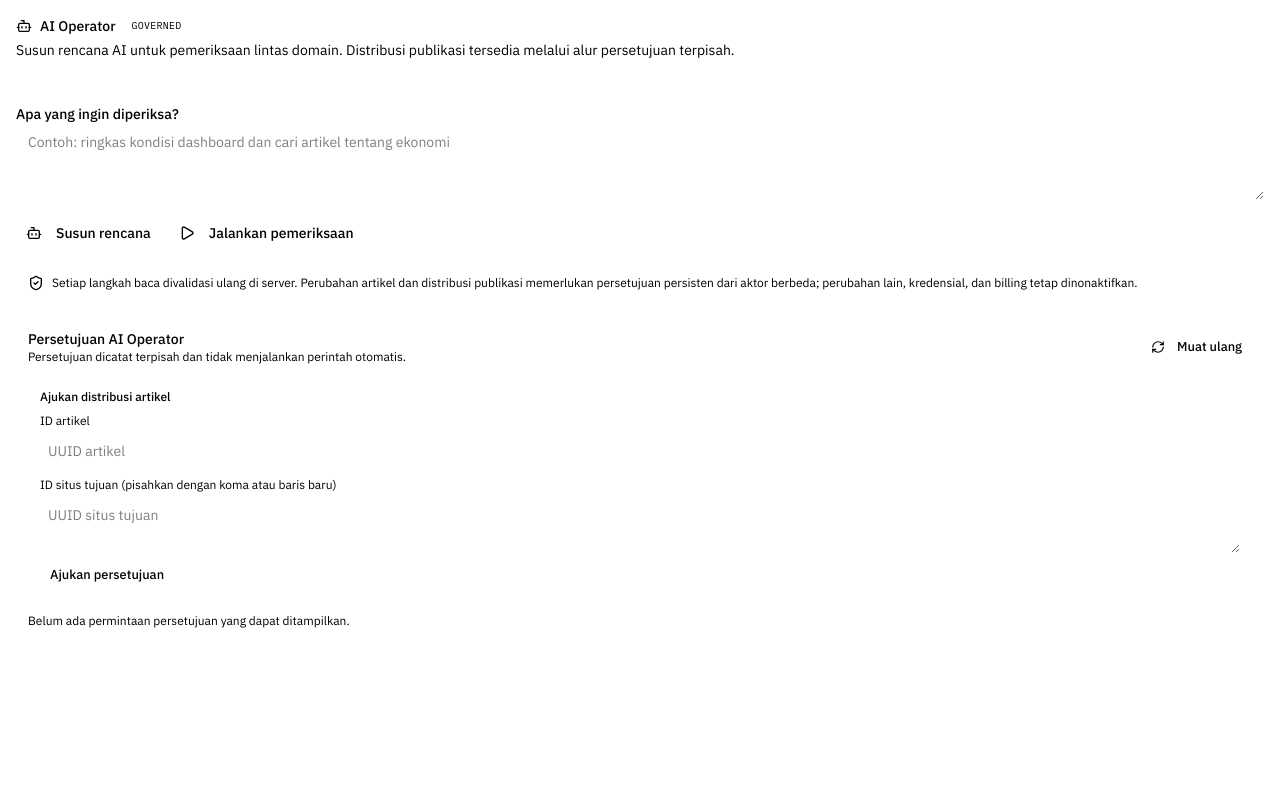
Test: AiOperatorConsole › submits a publication approval request using the entered article and site IDs
In the field with placeholder "UUID artikel": (640, 451) [40, 433, 1240, 469], type "11111111-1111-4111-8111-111111111111"
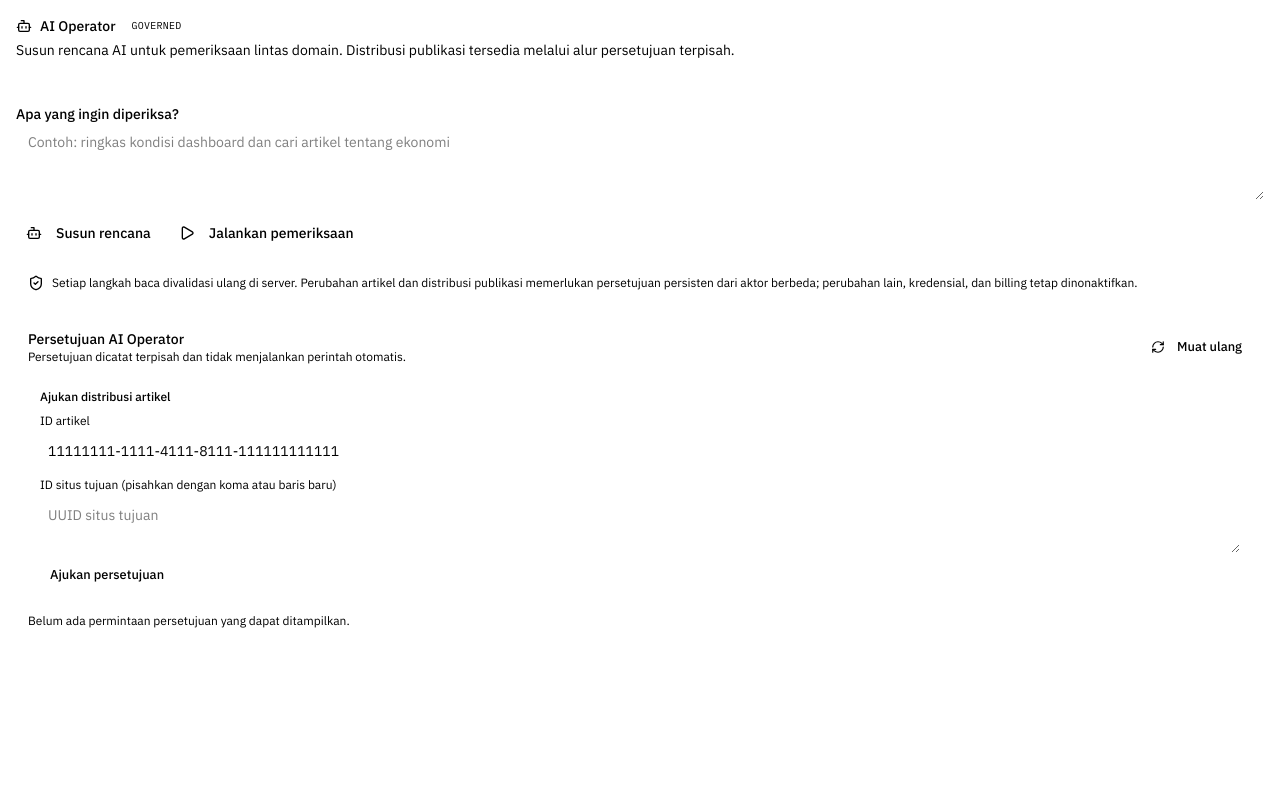
In the text box with placeholder "UUID situs tujuan": (640, 525) [40, 497, 1240, 553], type "22222222-2222-4222-8222-222222222222"
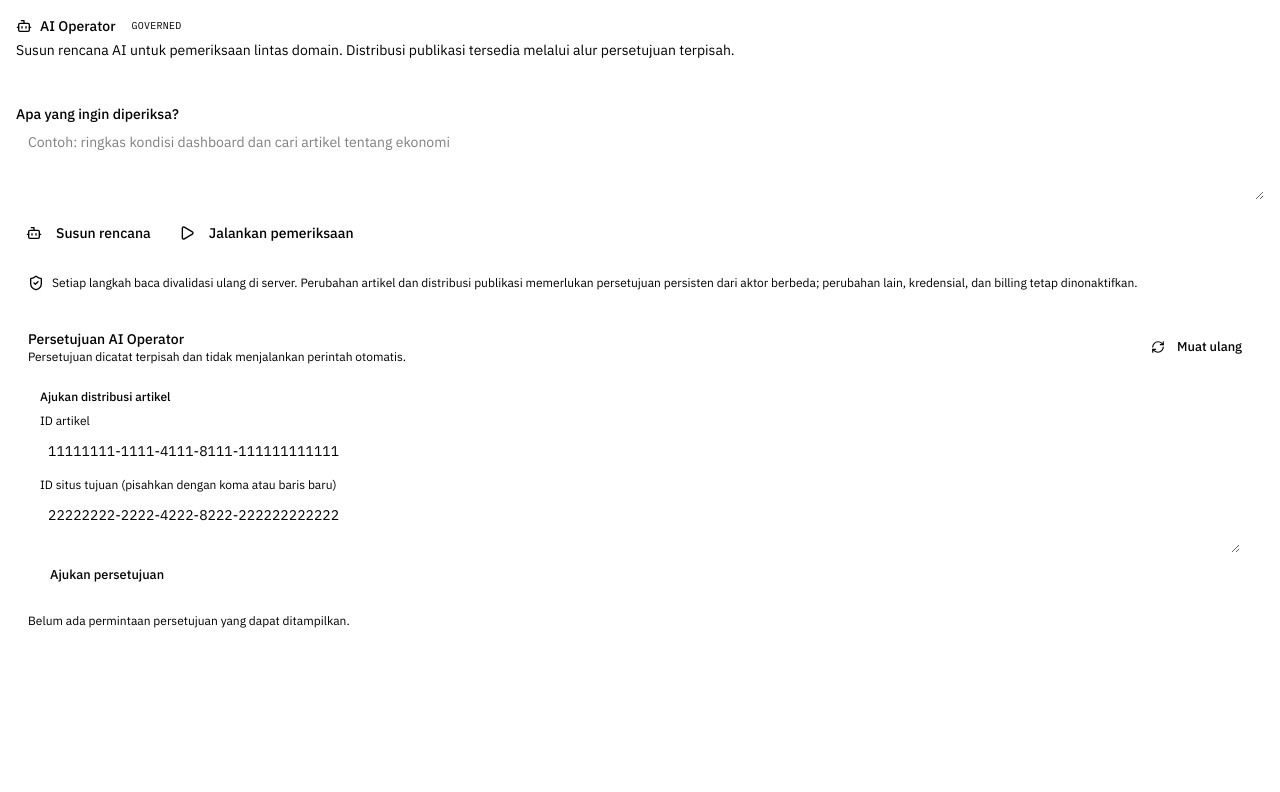
Click the button "Ajukan persetujuan": (107, 575) [40, 561, 174, 589]
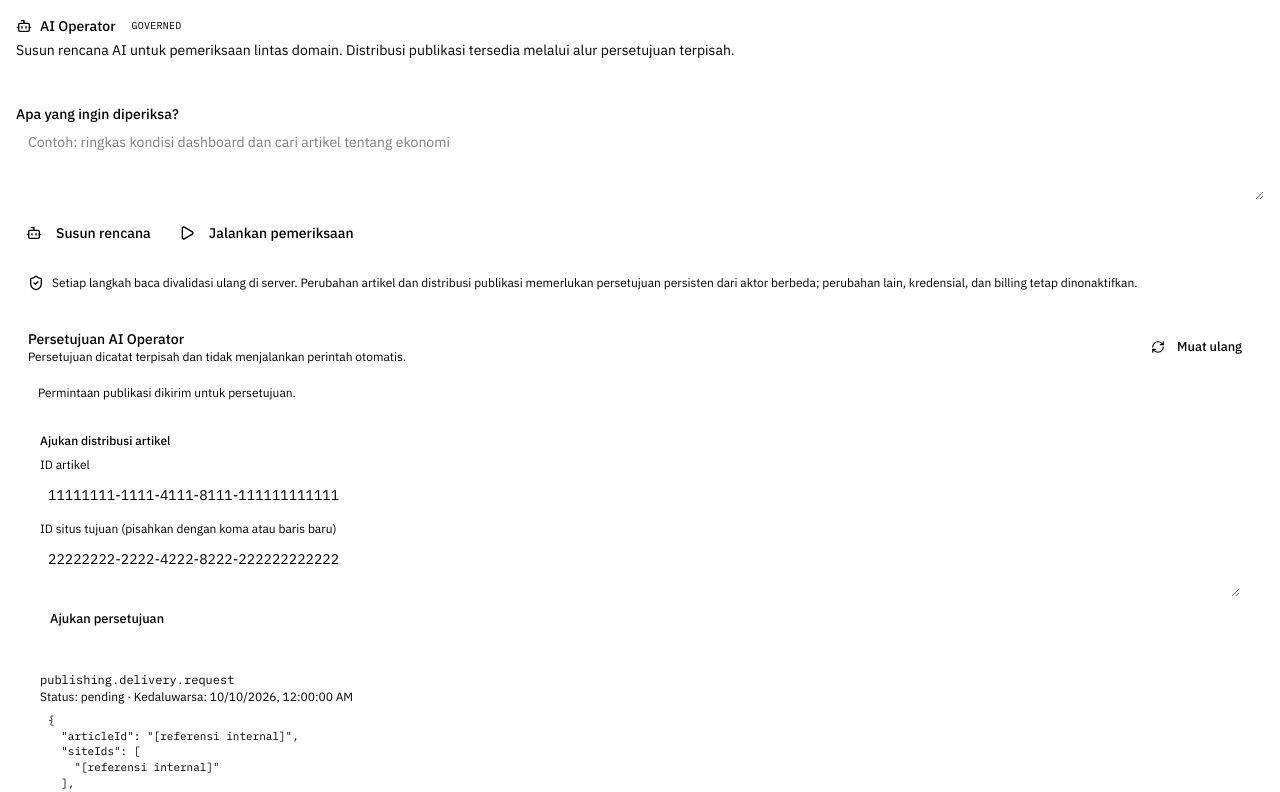
Expected: the text "Permintaan publikasi dikirim untuk persetujuan." is shown, [38, 385, 296, 400]
